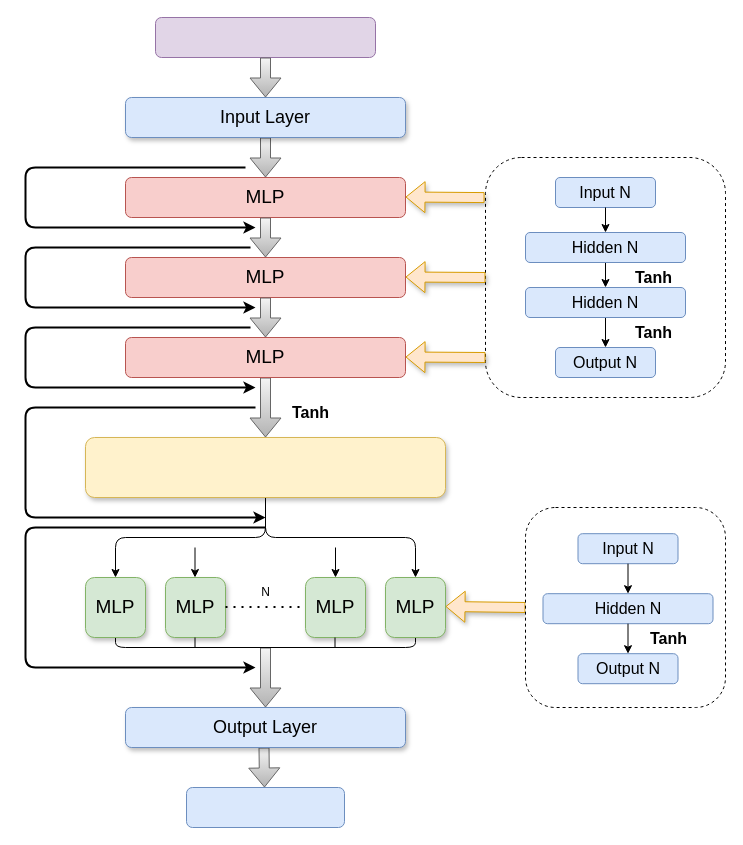
Some shapes in this 743 by 845 pixel diagram are drawn without their labels. Each missing label, with the centre of its shape:
"Cosmological Parameters" belongs at point (265, 37).
"Data Vector" belongs at point (265, 807).
"Self-Attention" belongs at point (266, 468).
